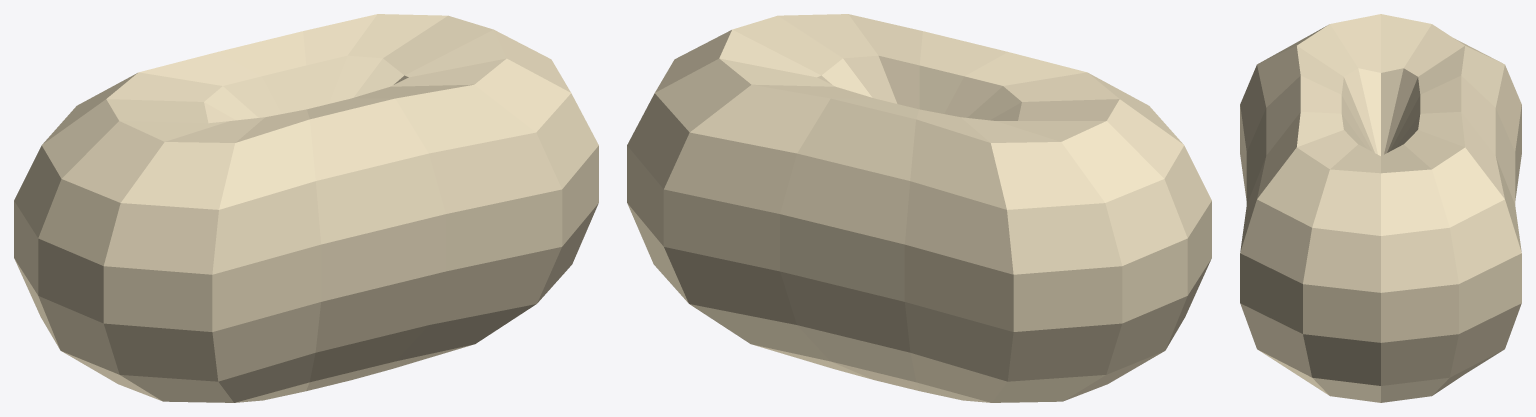
Rendered from Chuko.obj.
3 views of the same model, side by side, from view 1: azimuth 30°, elevation 25°; view 2: azimuth 150°, elevation 25°; view 3: azimuth 270°, elevation 25° (orthographic). The views are drawn at different scales.
Parts seen in each view (by area): view 1: Chuko; view 2: Chuko; view 3: Chuko.
Boxes of the visible parts, <box> form: Chuko: <box>14,14,598,402</box>; Chuko: <box>627,14,1211,402</box>; Chuko: <box>1240,14,1521,402</box>.
Size of the model in its own units: 0.2212 by 0.12 by 0.1154.
